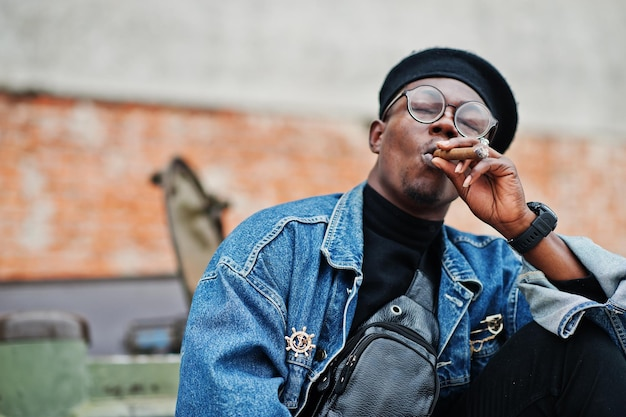cigarette: (433, 143, 488, 161)
